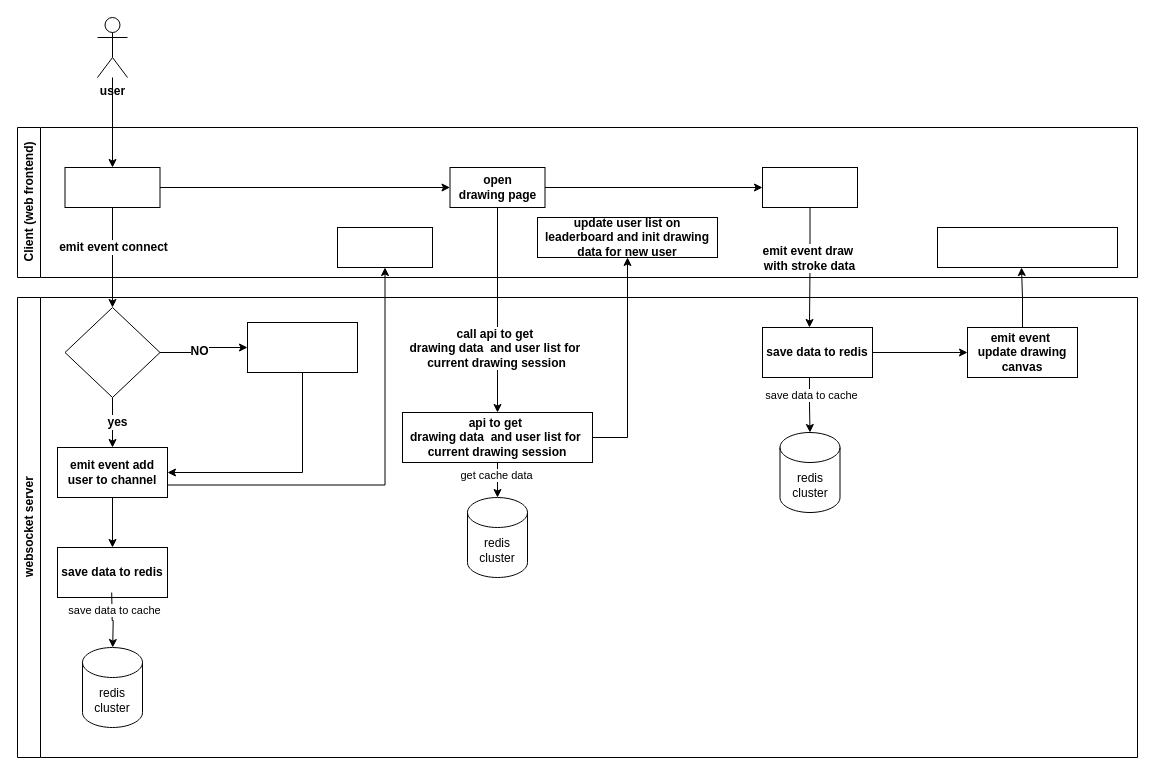
Image size: 1155x775. Some labels were removed from this diagram. Here are the shapes that lost their labels. From the top down, the centre of each, then its label:
point 112,187: connect by class ID
point 810,187: user make draw action
point 384,247: update list of user for class on leaderboard
point 1027,247: update drawing data for all user of class
point 112,352: quiz chanel exist?
point 302,347: create chanel
